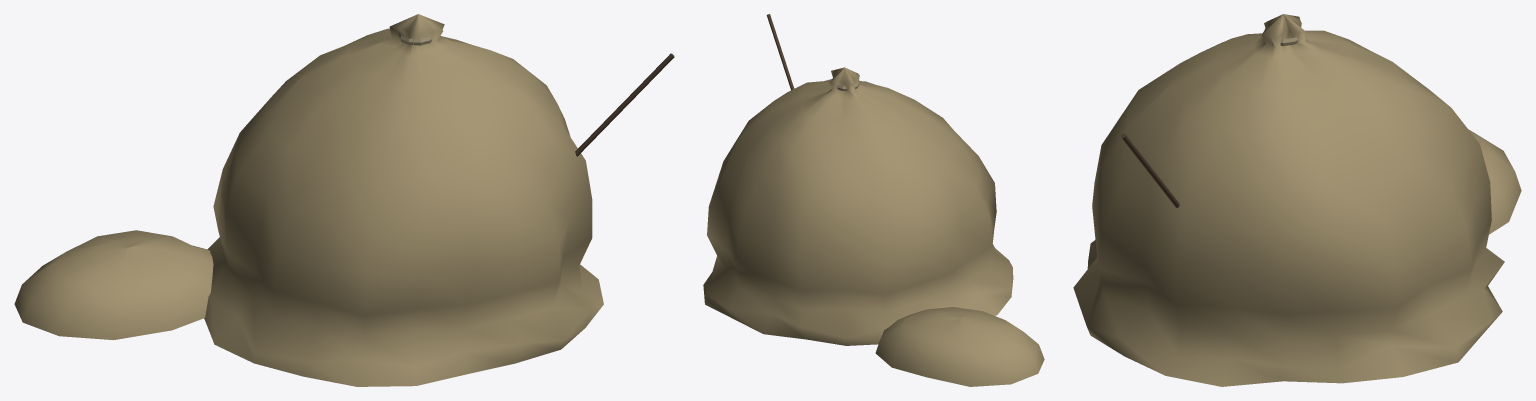
File: haystack.glb
3 views of the same model, side by side, from view 1: azimuth 30°, elevation 25°; view 2: azimuth 150°, elevation 25°; view 3: azimuth 270°, elevation 25° (orthographic). The views are drawn at different scales.
Visible parts, largest first — view 1: haystack; view 2: haystack; view 3: haystack.
Boxes of the visible parts, box(x1,y1,x2,y2) form: haystack: box(14, 14, 674, 386); haystack: box(703, 14, 1044, 386); haystack: box(1073, 14, 1521, 386).
Size of the model in its own units: 4.91 by 2.62 by 3.58.
